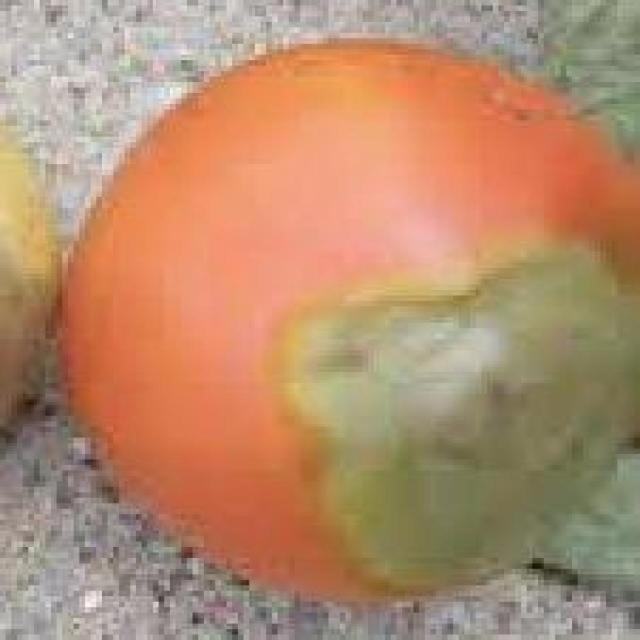Blossom End Rot Fruit: (179, 156, 421, 395)
